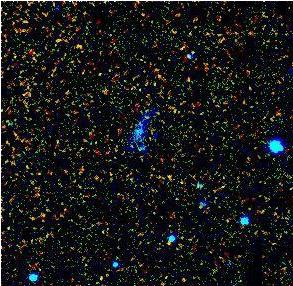star: (87, 264, 117, 286)
